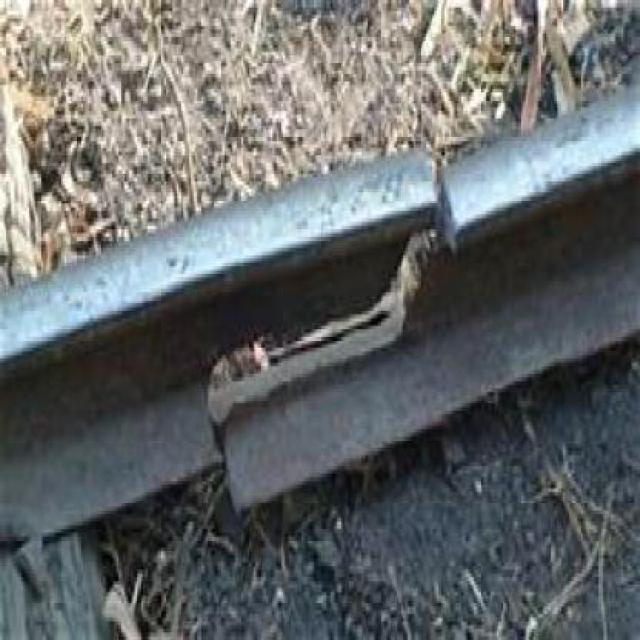defective: (63, 59, 591, 553)
